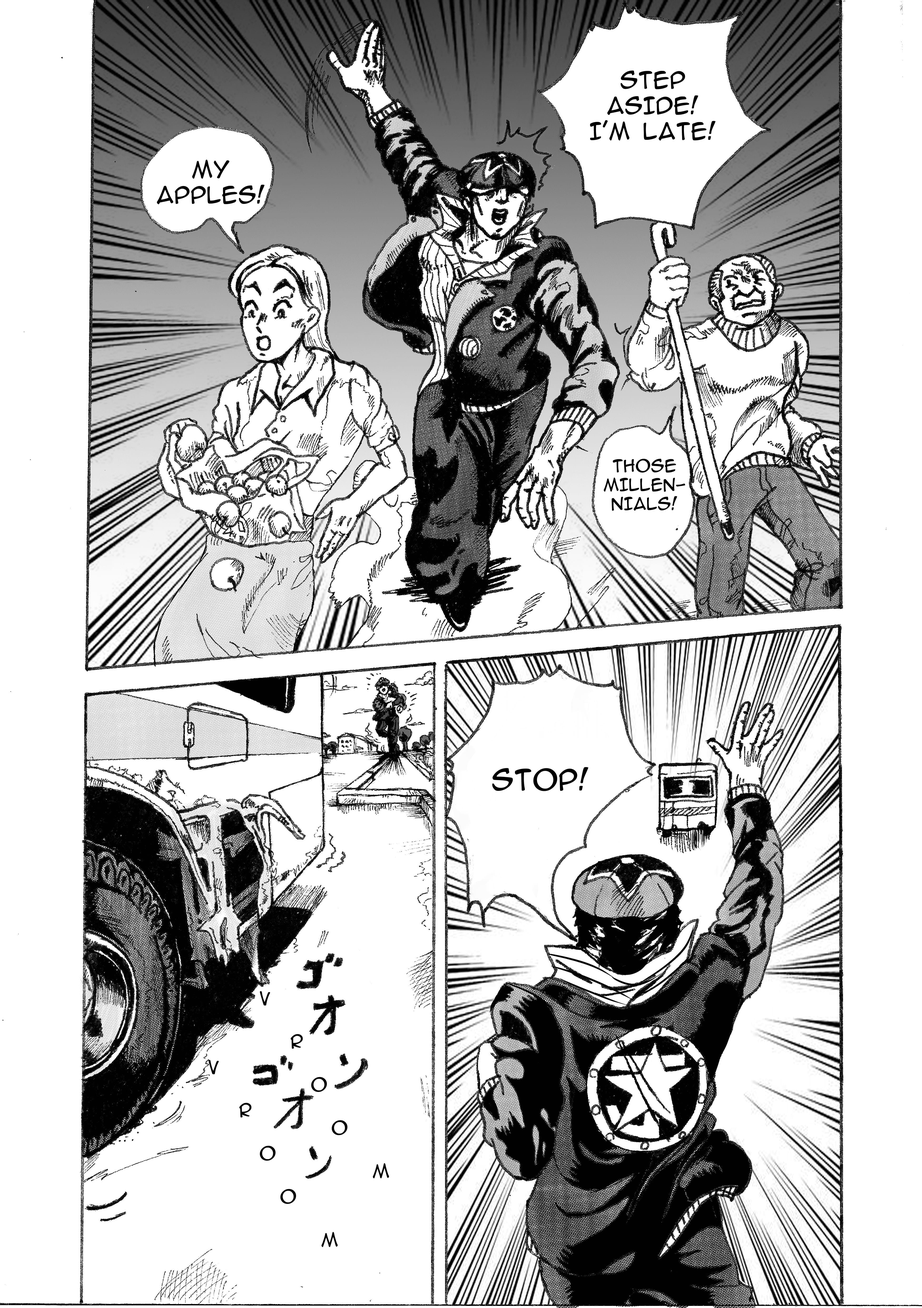bubble: (446, 668, 653, 939), (541, 2, 770, 230), (141, 127, 273, 252), (593, 410, 694, 556)
